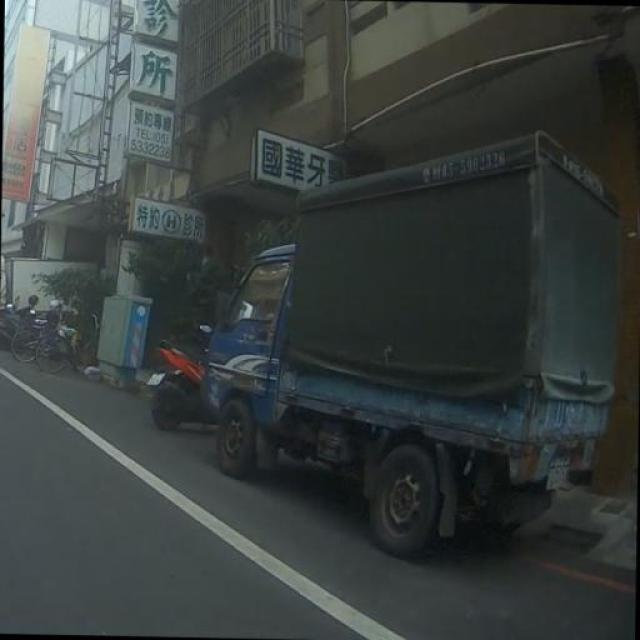illegalparking: (94, 130, 634, 606)
